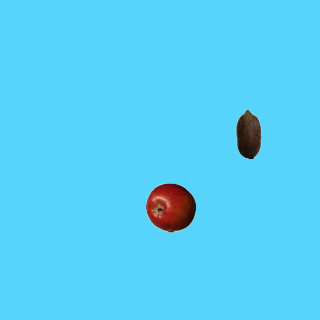Apple Braeburn: (145, 182, 195, 232)
Nut Pecan: (223, 108, 273, 158)
